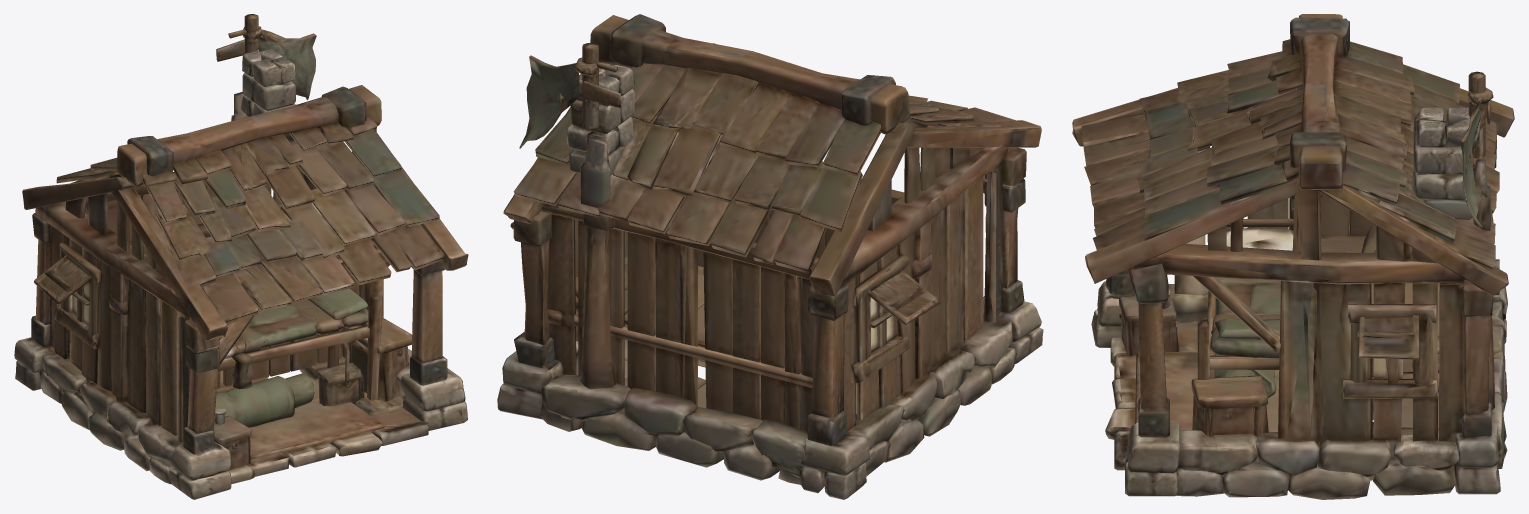
The model's file is shelter_t2_bunk.glb.
3 renders of one model, left to right at view 1: azimuth 30°, elevation 25°; view 2: azimuth 150°, elevation 25°; view 3: azimuth 270°, elevation 25°, orthographic. The views are drawn at different scales.
Bounding box in the file's own units: 0.3442 × 0.3135 × 0.3276.
1 material, 1 textured.
